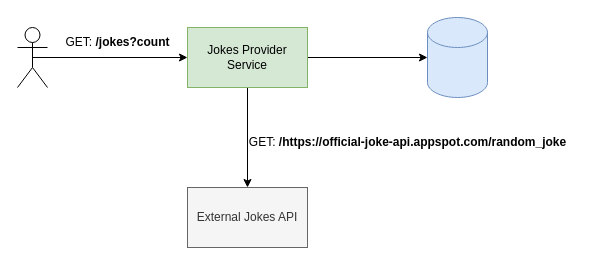
This 595x265 diagram has some shape labels left out. Each missing label, with the box of its shape:
Actor: (16, 26, 48, 88)
Mongo: (426, 16, 488, 98)
